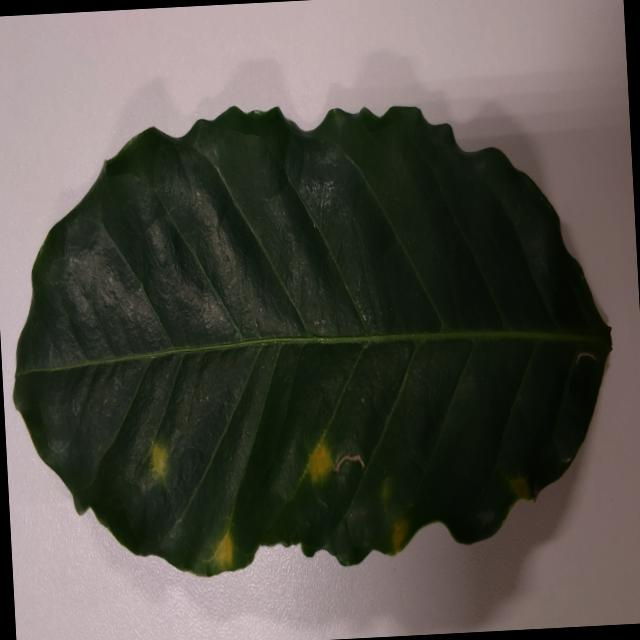KaratDaunKopi: (307, 442, 332, 483), (214, 532, 233, 567), (392, 517, 409, 553), (151, 443, 167, 479), (381, 477, 392, 505)
